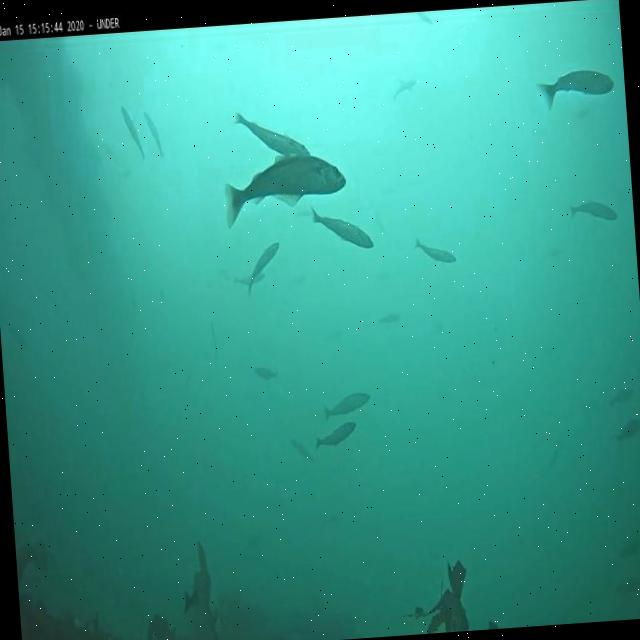fish: (224, 149, 348, 232), (235, 108, 312, 159), (535, 66, 615, 110), (310, 200, 374, 249), (323, 391, 373, 419), (568, 196, 617, 224), (316, 418, 359, 449), (120, 105, 143, 158), (414, 238, 458, 264), (144, 110, 162, 159), (290, 435, 314, 460), (615, 417, 640, 441), (233, 270, 266, 288), (618, 537, 640, 561), (252, 362, 278, 382), (393, 80, 418, 97), (608, 390, 632, 405), (396, 77, 414, 92), (379, 312, 398, 324), (417, 10, 432, 24)
